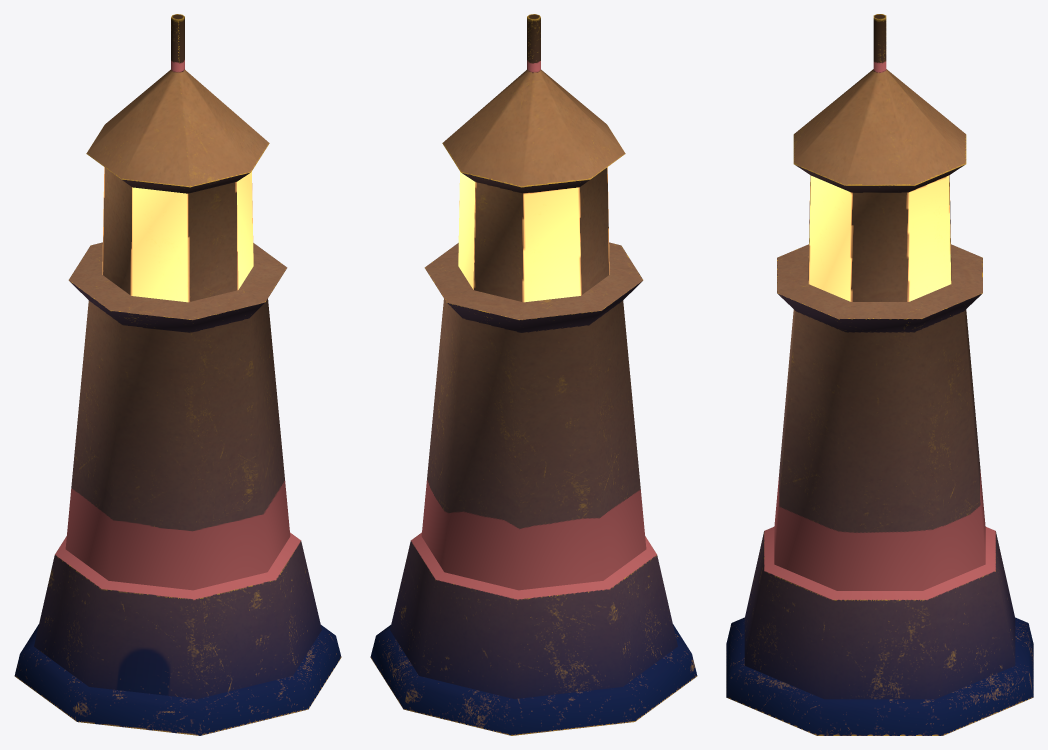
Rendered from NST_LightHouse_Mesh.fbx.
3 renders of one model, left to right at view 1: azimuth 30°, elevation 25°; view 2: azimuth 150°, elevation 25°; view 3: azimuth 270°, elevation 25°, orthographic.
Parts seen in each view (by area): view 1: NST_LightHouse; view 2: NST_LightHouse; view 3: NST_LightHouse.
Part boxes in pixels (x1,y1,x2,y2): NST_LightHouse: [14, 14, 341, 735]; NST_LightHouse: [370, 14, 697, 735]; NST_LightHouse: [726, 14, 1033, 735].
Size of the model in its own units: 0.1613 by 0.3787 by 0.1613.
